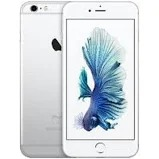iphone: (58, 1, 141, 159)
iphone6: (58, 1, 141, 159)
